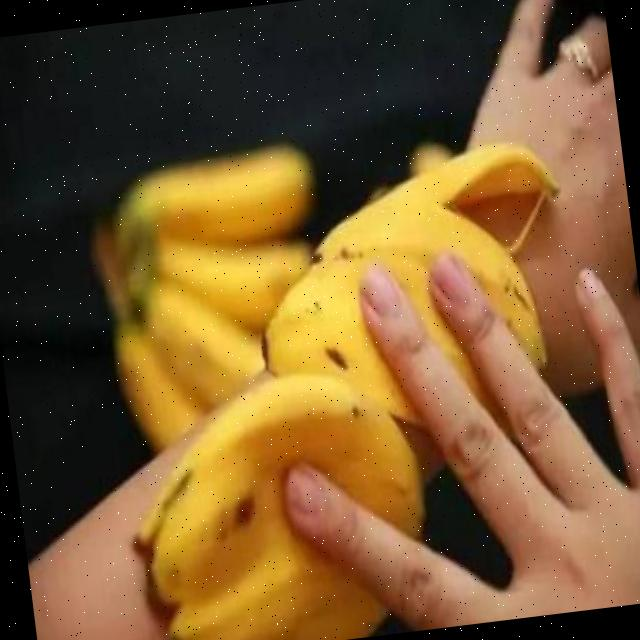banana-peel: (87, 120, 610, 640), (115, 357, 441, 640)
